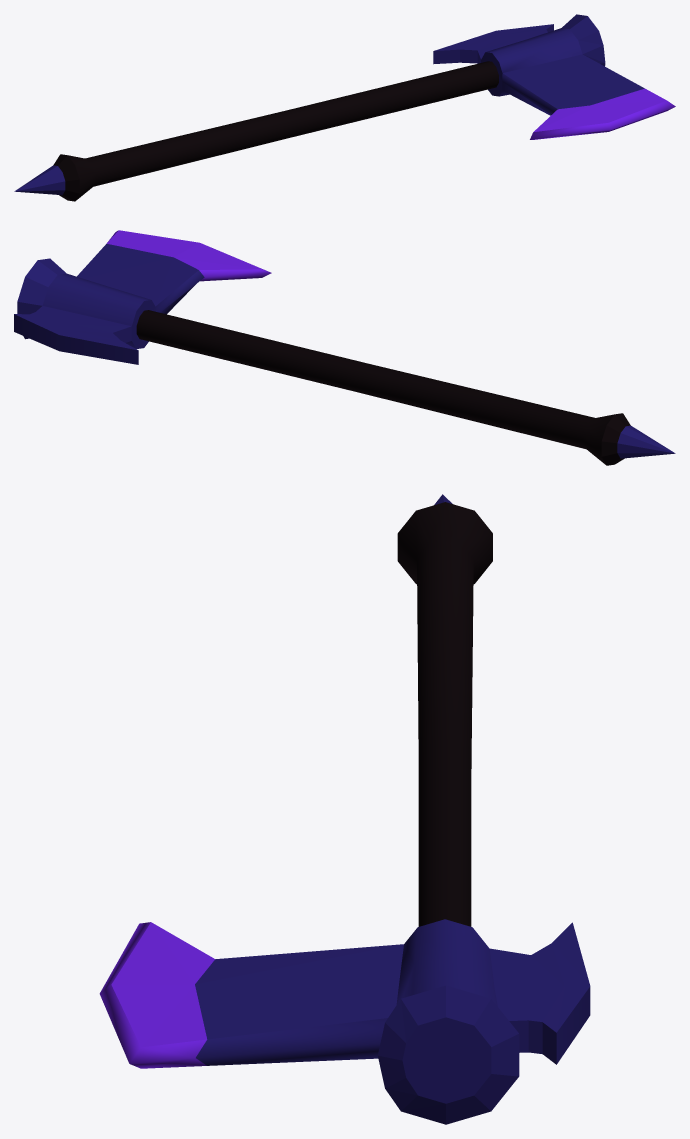
3 views of the same model, one above another, from view 1: azimuth 30°, elevation 25°; view 2: azimuth 150°, elevation 25°; view 3: azimuth 270°, elevation 25° (orthographic). The views are drawn at different scales.
Parts seen in each view (by area): view 1: 도끼; view 2: 도끼; view 3: 도끼.
Part boxes in pixels (x1,y1,x2,y2): 도끼: [14, 14, 675, 201]; 도끼: [14, 230, 675, 465]; 도끼: [99, 494, 590, 1124].
Size of the model in its own units: 11.88 by 1.35 by 4.32.
